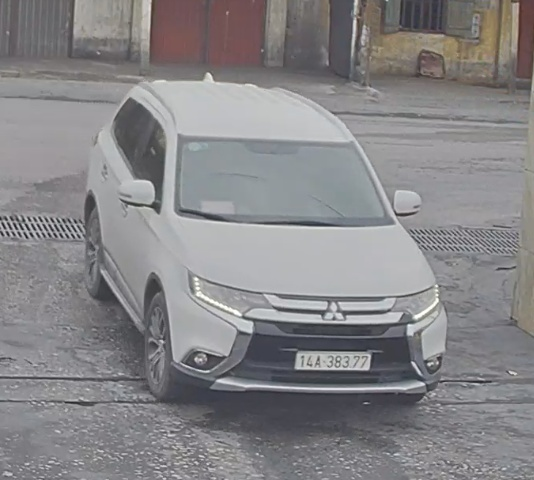vehicle plate: (292, 345, 378, 376)
